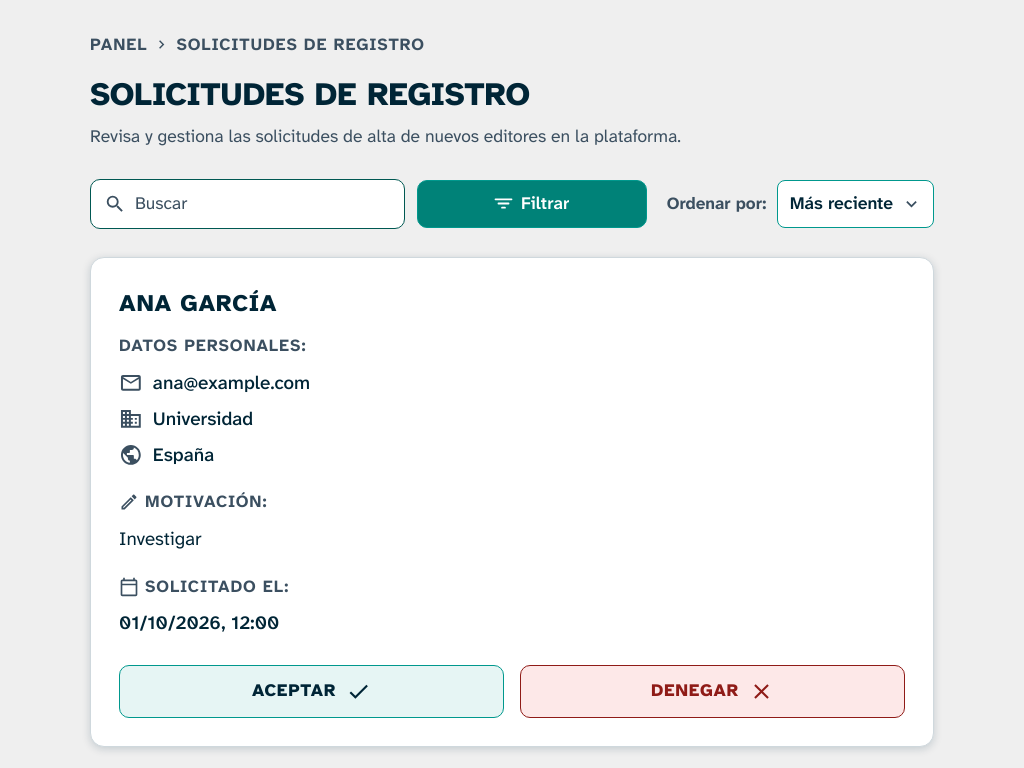
RegistrationRequestsPage › muestra y filtra las solicitudes pendientes
The image size is (1024, 768).
Expected: the heading "Ana García" is shown, [119, 288, 277, 319]
Type "desconocido" into the search field named "Introduce una palabra" at (247, 204), box [90, 178, 405, 229]
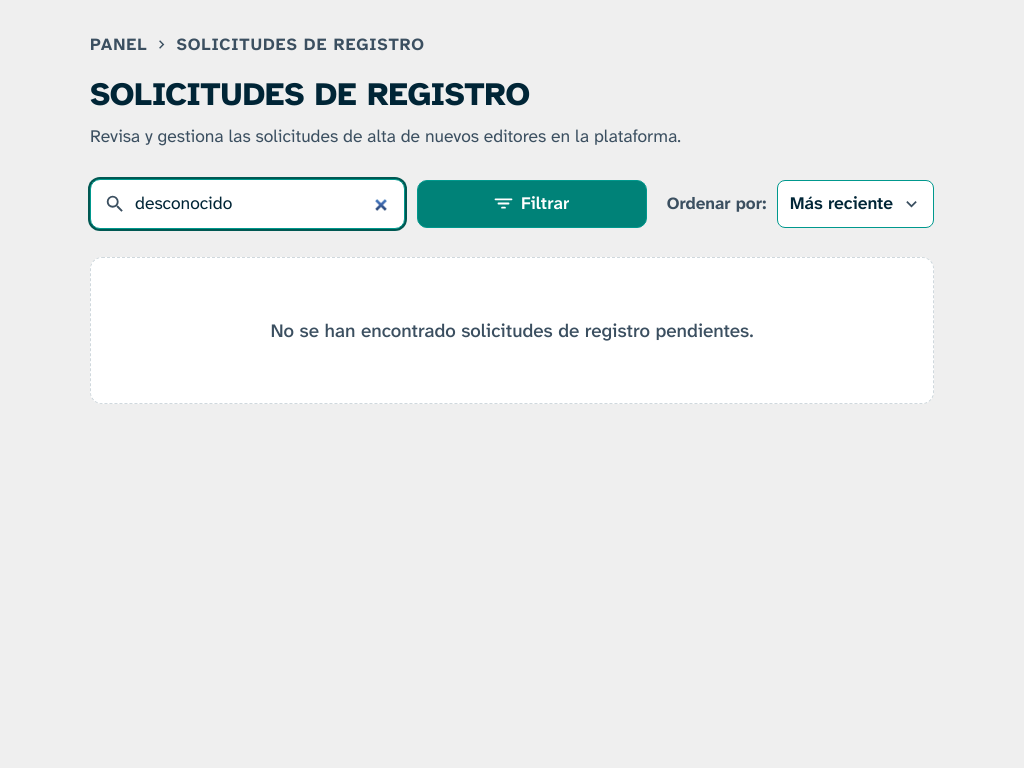
Expected: the text "No se han encontrado solicitudes de registro pendientes." is shown, [270, 318, 754, 342]
